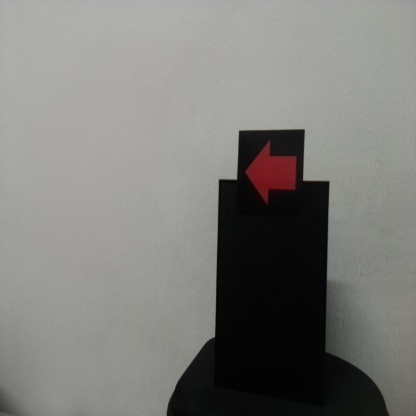id_4: (238, 131, 304, 214)
